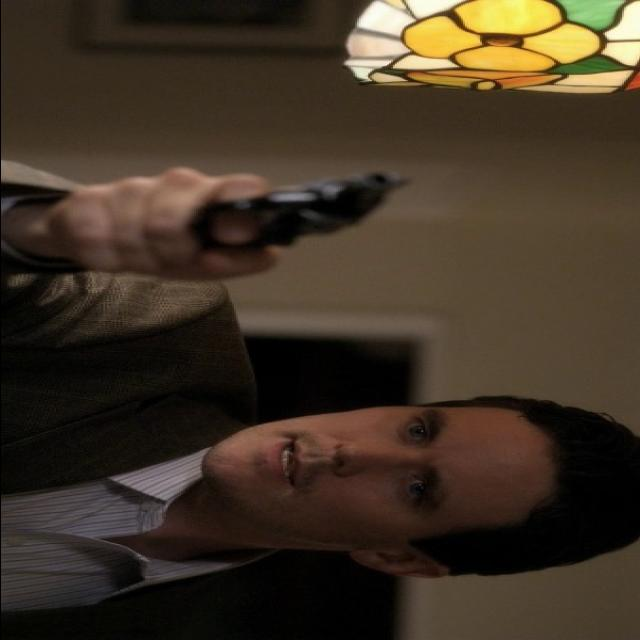weapons: (133, 148, 440, 294)
